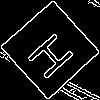H: (25, 24, 83, 83)
